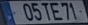0: (21, 2, 34, 21)
1: (68, 1, 78, 20)
5: (30, 2, 43, 21)
7: (60, 2, 70, 21)
E: (48, 1, 64, 20)
T: (39, 1, 51, 21)
